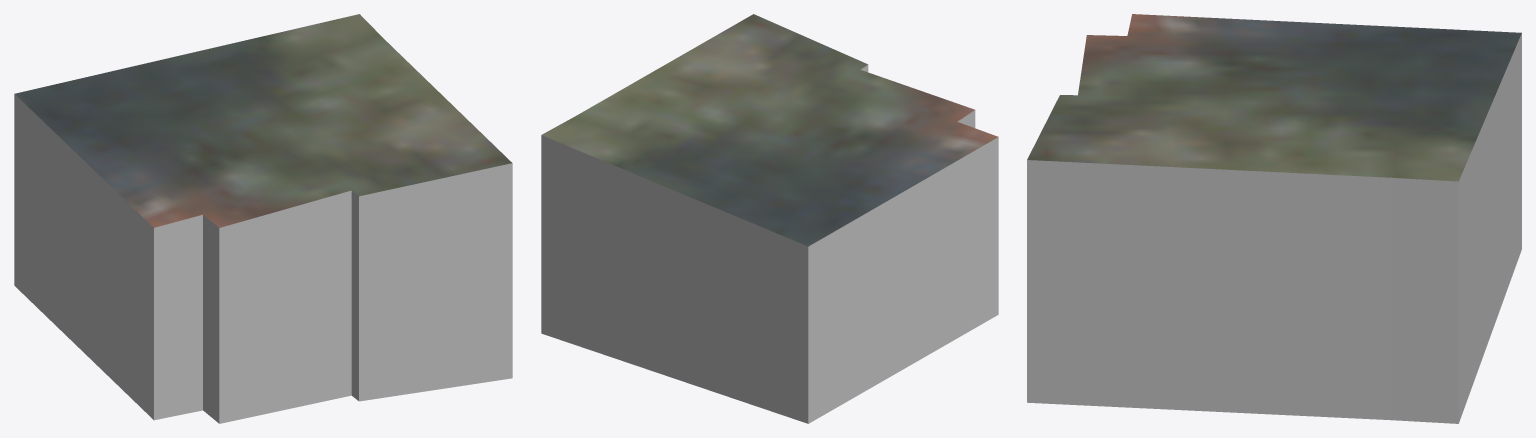
The model's file is DEBW_0010007Txde.gltf.
3 views of the same model, side by side, from view 1: azimuth 30°, elevation 25°; view 2: azimuth 150°, elevation 25°; view 3: azimuth 270°, elevation 25° (orthographic). The views are drawn at different scales.
Parts seen in each view (by area): view 1: Z_UP; view 2: Z_UP; view 3: Z_UP.
Part boxes in pixels (x1,y1,x2,y2): Z_UP: [14, 14, 512, 423]; Z_UP: [541, 14, 998, 423]; Z_UP: [1027, 14, 1521, 423].
Bounding box in the file's own units: 6.64 × 3.9 × 7.2.
2 materials, 1 textured.
